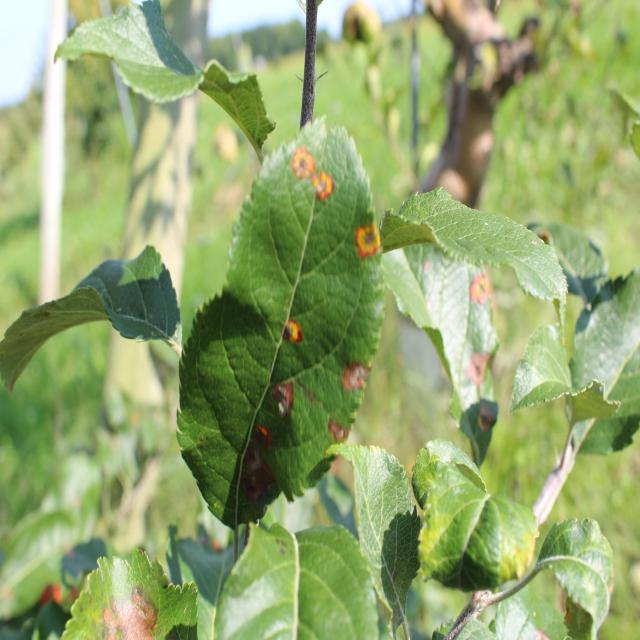Rust: (289, 121, 338, 222), (250, 371, 306, 431), (332, 341, 384, 405), (457, 332, 499, 409), (348, 204, 390, 271), (276, 297, 308, 364), (324, 409, 360, 467), (462, 260, 494, 318)
